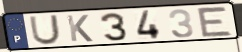3: (98, 11, 129, 42), (168, 8, 195, 39)
4: (136, 9, 162, 41)
E: (195, 5, 234, 38)
K: (65, 14, 95, 43)
U: (28, 14, 63, 46)
